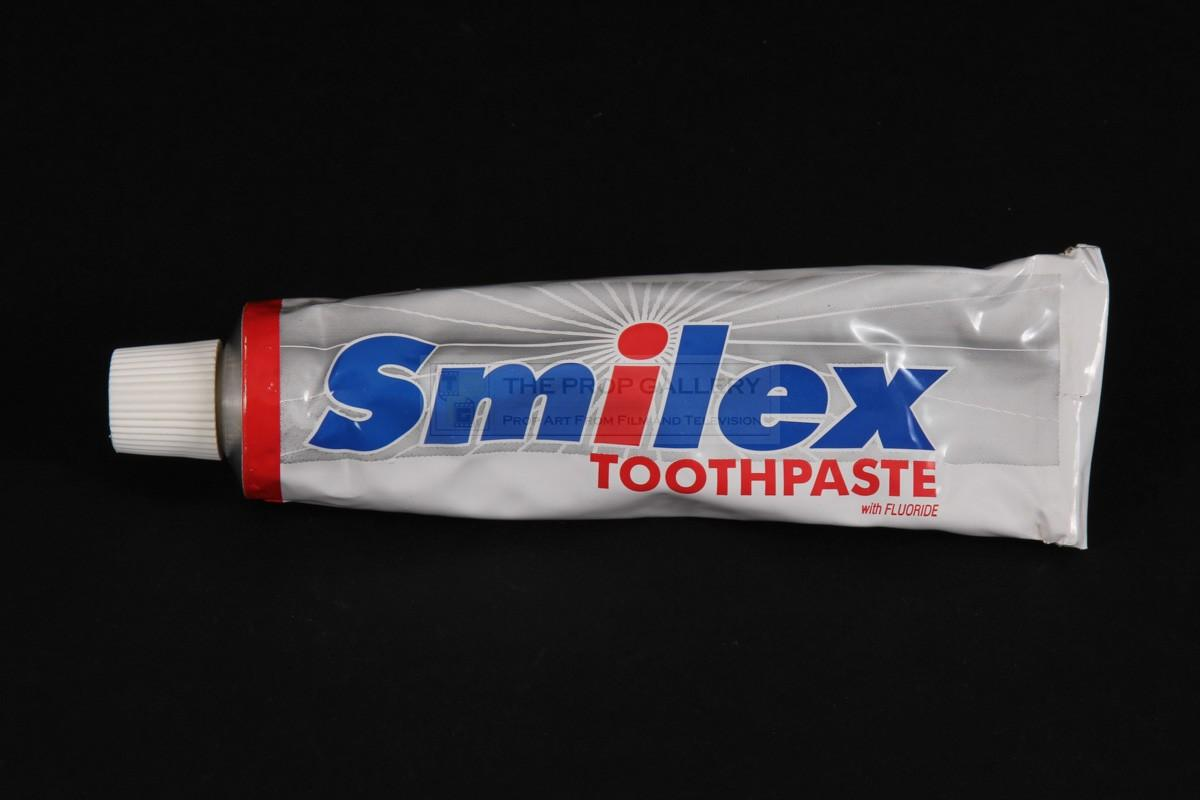toothpaste: (97, 237, 1131, 573)
